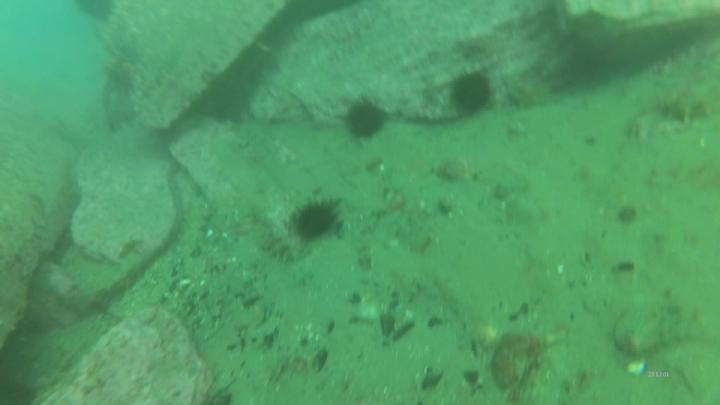echinus: (288, 194, 346, 247), (445, 65, 498, 119), (339, 97, 392, 144)
